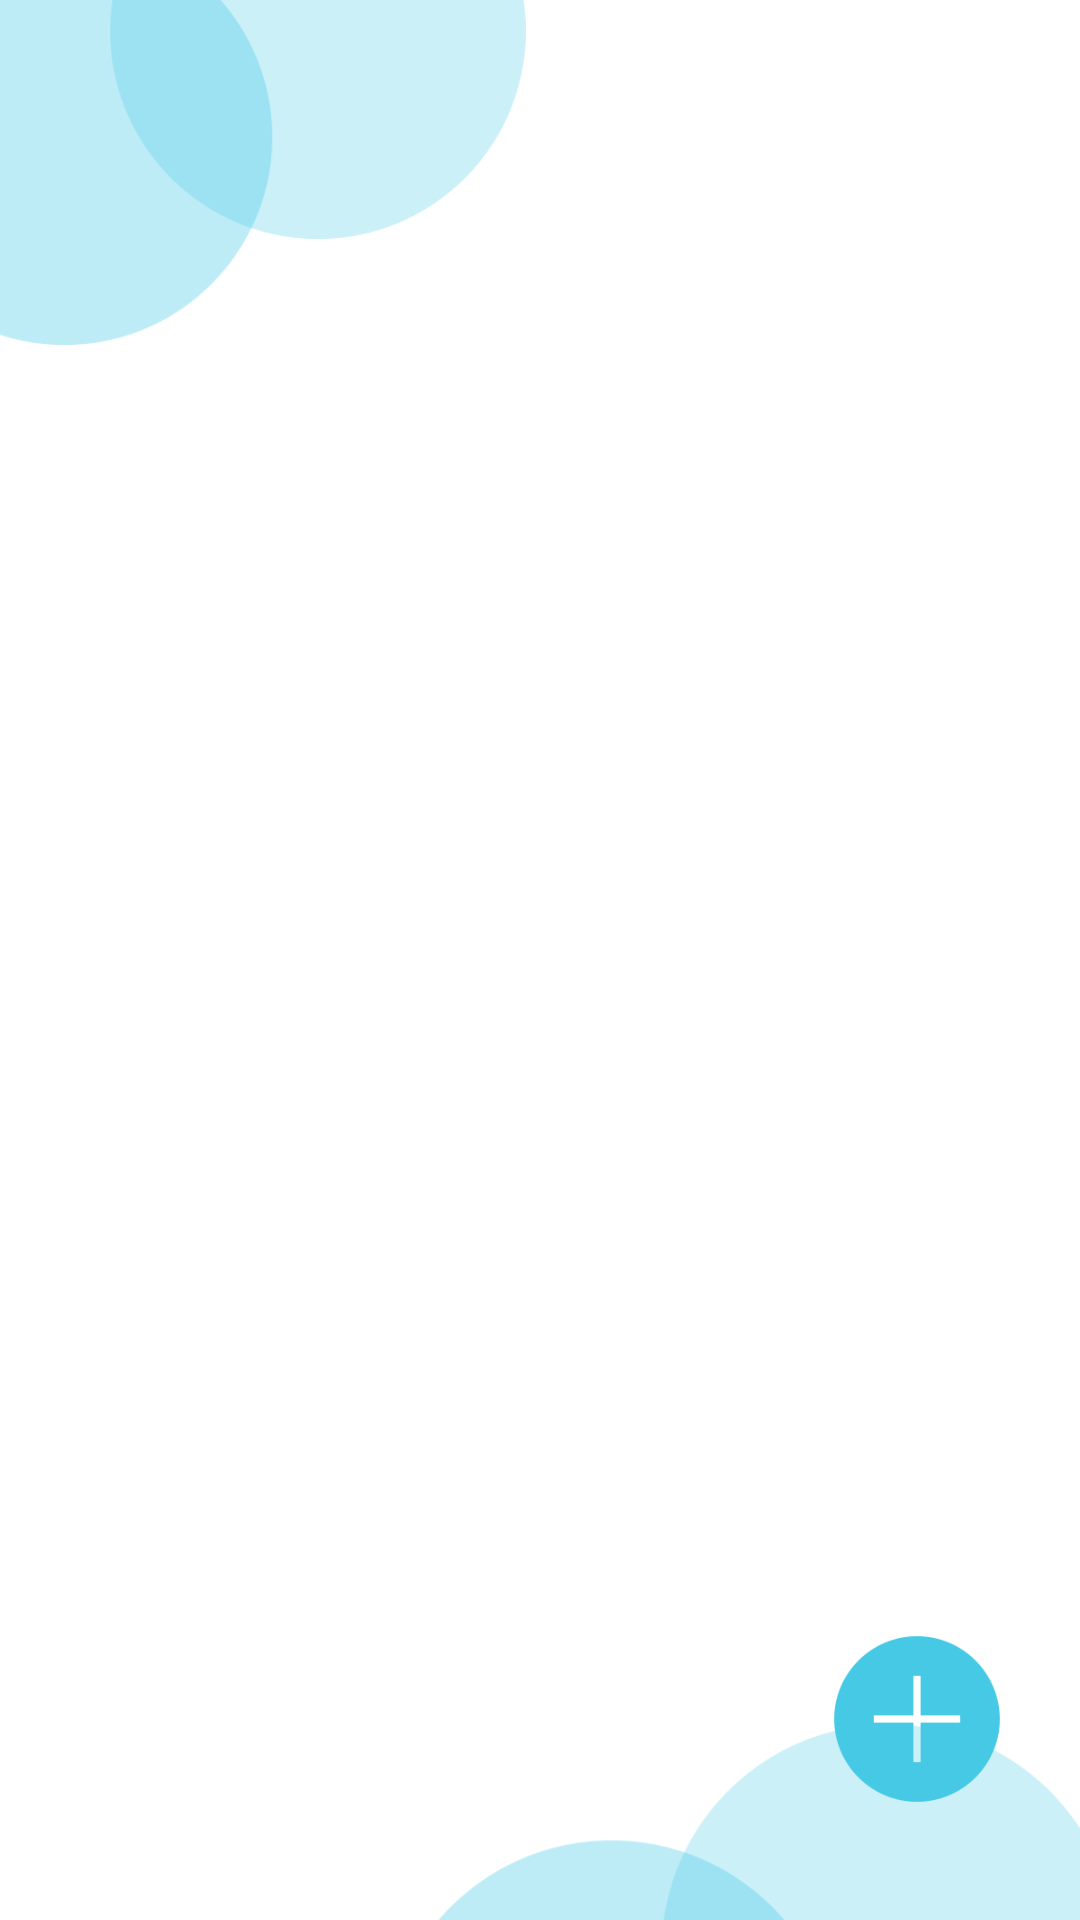

Point at icon controls on the screen. Image size 1080px×1920px, points as (x=x, y=y).
plus: (x=917, y=1719)
